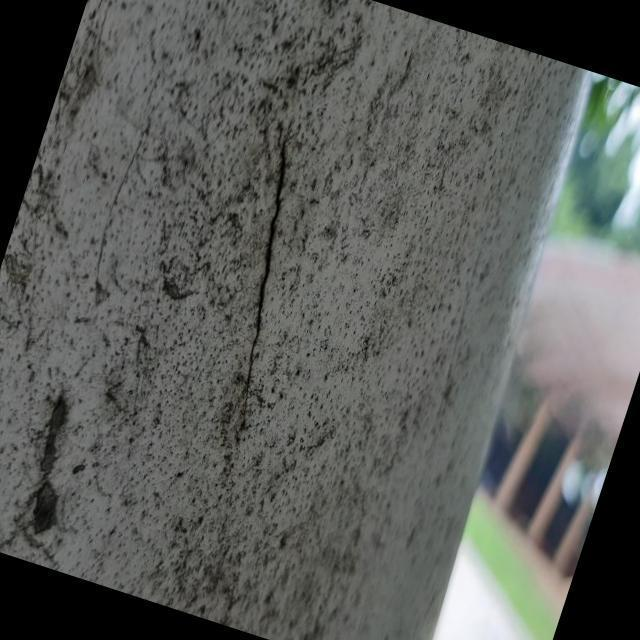defect: (239, 109, 290, 437)
